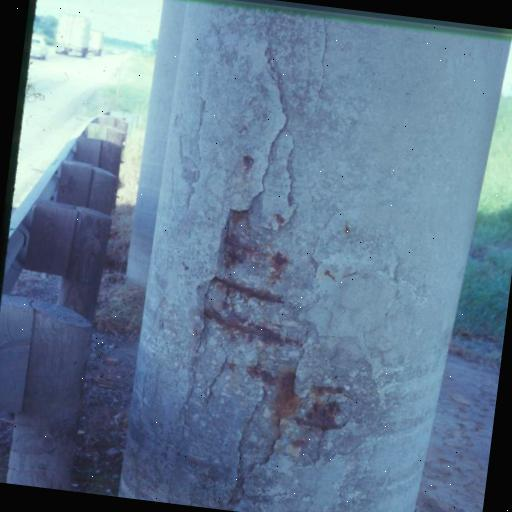spalling: (190, 198, 406, 462), (249, 22, 302, 186), (309, 16, 343, 106)
